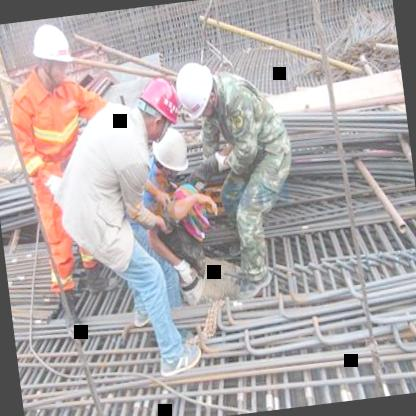helmet: (168, 55, 224, 128), (130, 73, 184, 143), (26, 17, 76, 88), (150, 124, 196, 186)
